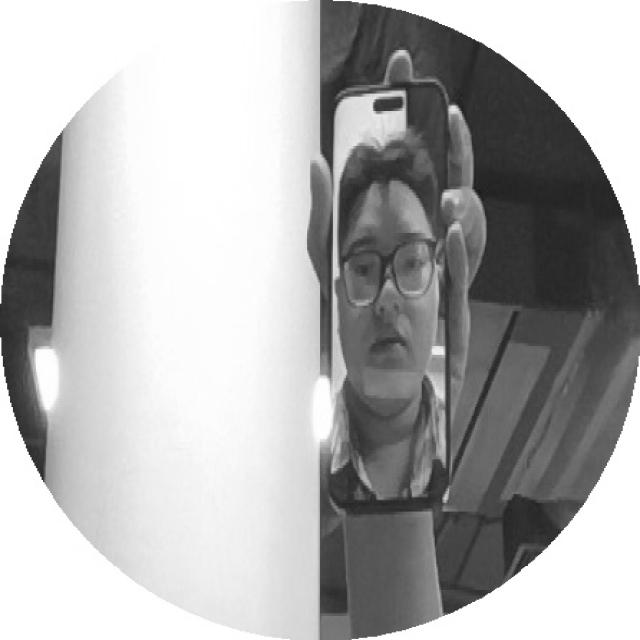fake: (283, 70, 478, 526), (315, 74, 472, 517)
